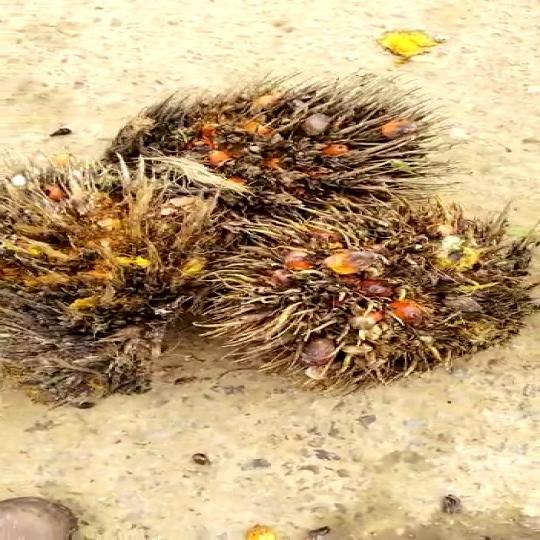terlalu masak: (200, 201, 539, 367), (82, 82, 460, 226)
